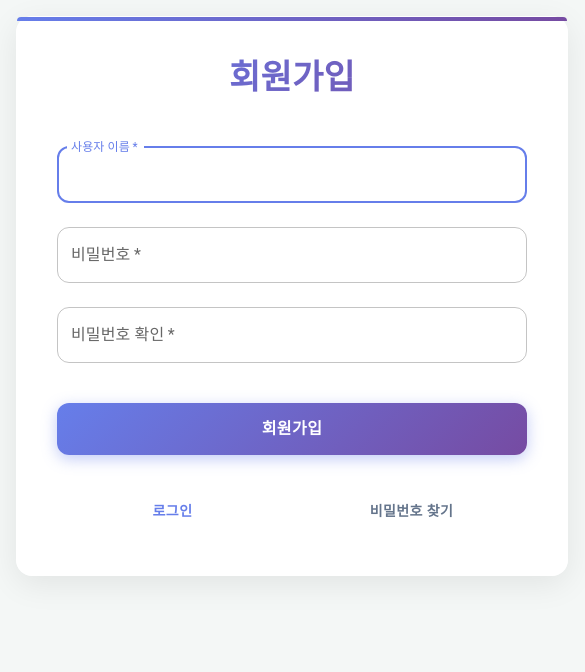
Test case: RegisterPage › should successfully register user with matching passwords
Step 1. Type "testuser" into the field labelled "사용자 이름 *" → (292, 175), box [57,147,527,203]
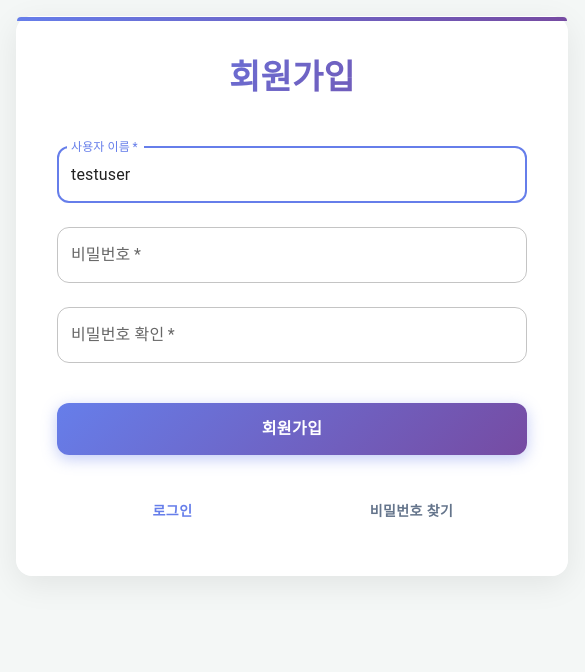
Step 2. Type "password123" into the password field labelled "비밀번호 *" → (292, 255), box [57,227,527,283]
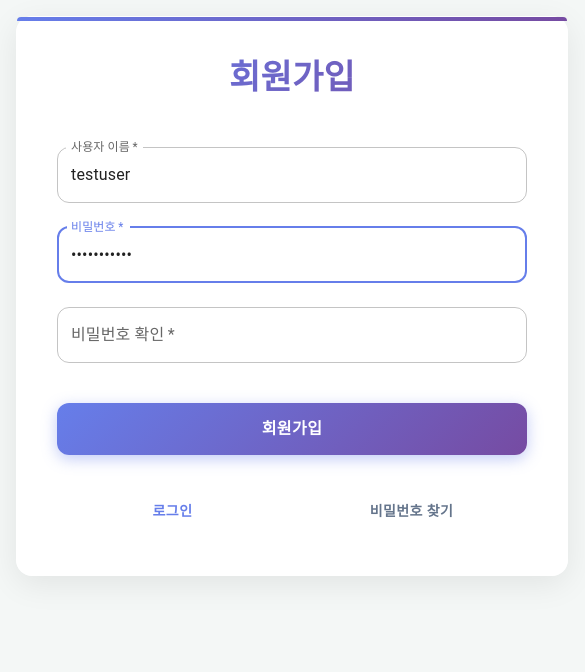
Step 3. Type "password123" into the password field labelled "비밀번호 확인 *" → (292, 335), box [57,307,527,363]
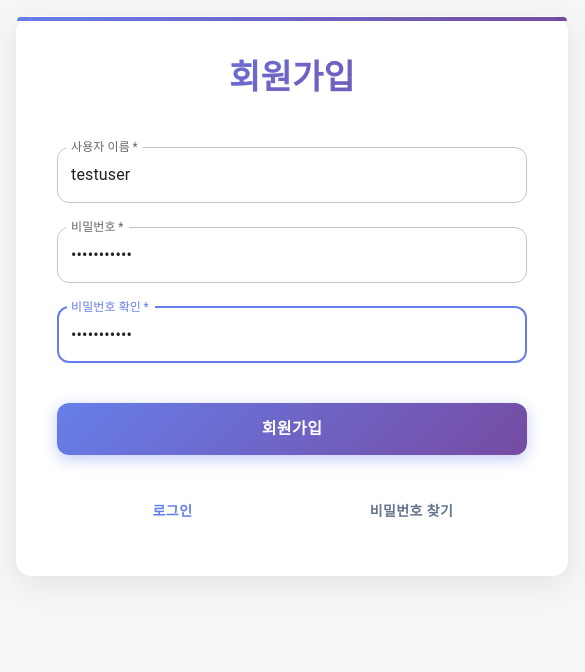
Step 4. Click the button "회원가입" → (292, 429), box [57,403,527,455]
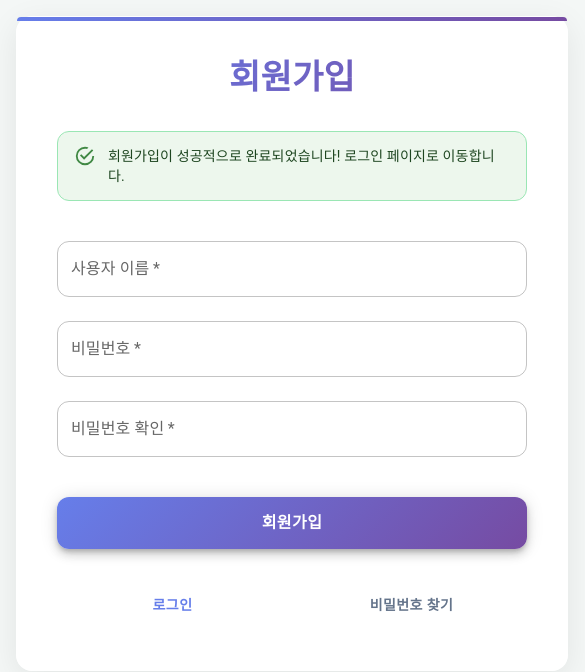
Check: the text "회원가입이 성공적으로 완료되었습니다! 로그인 페이지로 이동합니다." is shown, box [108,138,510,194]
